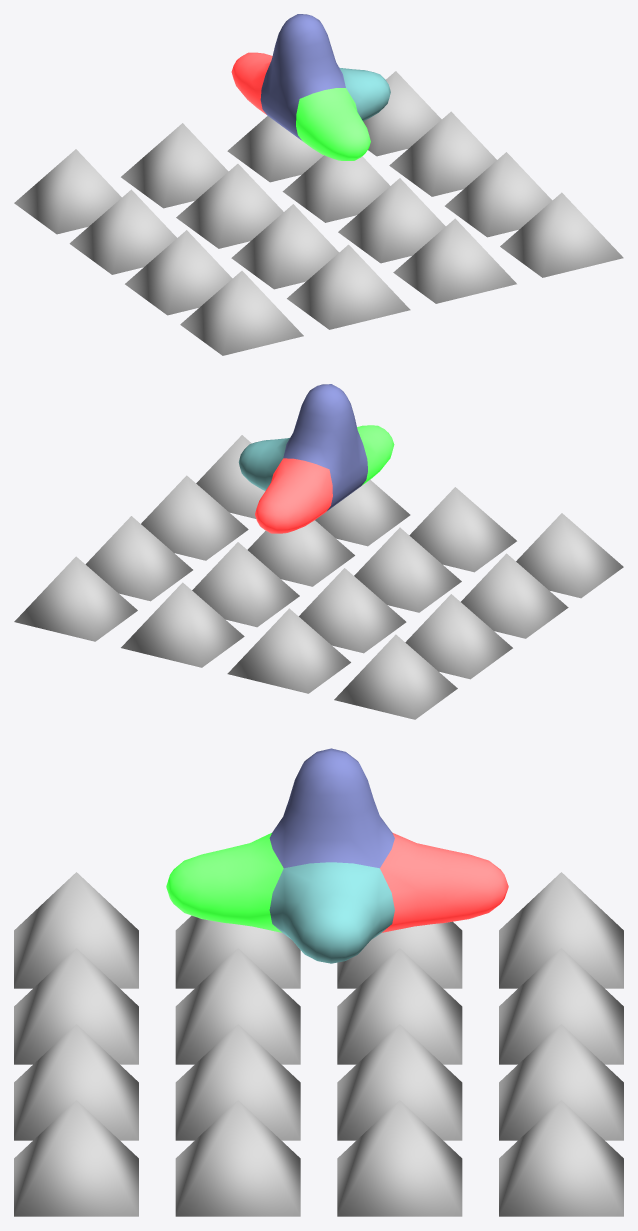
Rendered from max2009_blob_6100_binary.fbx.
3 views of the same model, one above another, from view 1: azimuth 30°, elevation 25°; view 2: azimuth 150°, elevation 25°; view 3: azimuth 270°, elevation 25° (orthographic). The views are drawn at different scales.
Visible parts, largest first — view 1: Box01, Pyramid11, Pyramid15, Pyramid19, Pyramid04, Pyramid06, Pyramid07, Pyramid10, Pyramid16, Pyramid08, Pyramid09, Pyramid12 (+5 smaller); view 2: Box01, Pyramid14, Pyramid10, Pyramid07, Pyramid18, Pyramid13, Pyramid04, Pyramid16, Pyramid06, Pyramid11, Pyramid17, Pyramid05 (+5 smaller); view 3: Box01, Pyramid16, Pyramid17, Pyramid18, Pyramid19, Pyramid08, Pyramid09, Pyramid12, Pyramid13, Pyramid04, Pyramid07, Pyramid10 (+5 smaller).
Boxes of the visible parts, x1,y1,x2,y2 form: Box01: (231, 14, 390, 160); Pyramid11: (287, 244, 410, 329); Pyramid15: (393, 218, 516, 303); Pyramid19: (500, 192, 623, 277); Pyramid04: (180, 271, 303, 355); Pyramid06: (69, 189, 176, 274); Pyramid07: (14, 149, 121, 234); Pyramid10: (121, 123, 228, 208); Pyramid16: (445, 152, 552, 237); Pyramid08: (231, 204, 338, 289); Pyramid09: (176, 164, 283, 248); Pyramid12: (338, 178, 445, 263); Box01: (238, 384, 394, 533); Pyramid14: (121, 582, 244, 667); Pyramid10: (227, 608, 350, 693); Pyramid07: (334, 634, 457, 719); Pyramid18: (14, 556, 137, 641); Pyramid13: (192, 542, 299, 627); Pyramid04: (516, 513, 623, 598); Pyramid16: (141, 475, 248, 560); Pyramid06: (405, 594, 512, 679); Pyramid11: (409, 487, 516, 572); Pyramid17: (85, 516, 192, 601); Pyramid05: (461, 553, 568, 638); Box01: (166, 748, 508, 963); Pyramid16: (175, 1100, 300, 1216); Pyramid17: (337, 1100, 462, 1216); Pyramid18: (499, 1100, 623, 1216); Pyramid19: (14, 1100, 138, 1216); Pyramid08: (175, 948, 300, 1064); Pyramid09: (337, 948, 462, 1064); Pyramid12: (175, 1024, 300, 1140); Pyramid13: (337, 1024, 462, 1140); Pyramid04: (14, 872, 138, 988); Pyramid07: (499, 872, 623, 988); Pyramid10: (499, 948, 623, 1064).
Bounding box in the file's own units: 109 × 98.63 × 55.94.
